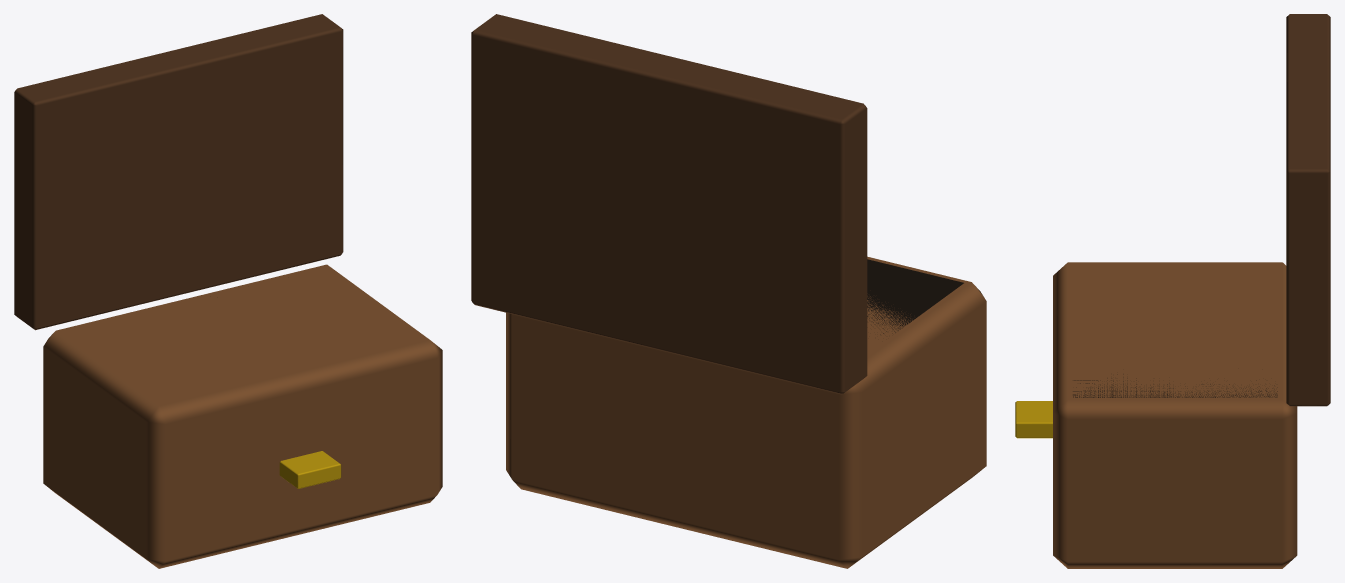
Rendered from chest-open.27f3173b.glb.
The picture shows the model from 3 angles, left to right: view 1: azimuth 30°, elevation 25°; view 2: azimuth 150°, elevation 25°; view 3: azimuth 270°, elevation 25°; orthographic projection. The views are drawn at different scales.
Parts seen in each view (by area): view 1: body; view 2: body; view 3: body.
Part boxes in pixels (x1,y1,x2,y2): body: [14, 14, 442, 568]; body: [471, 14, 986, 568]; body: [1015, 14, 1330, 568].
Size of the model in its own units: 0.84 by 1.01 by 0.71.
